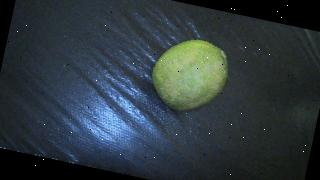DESECHO: (146, 32, 233, 119)
